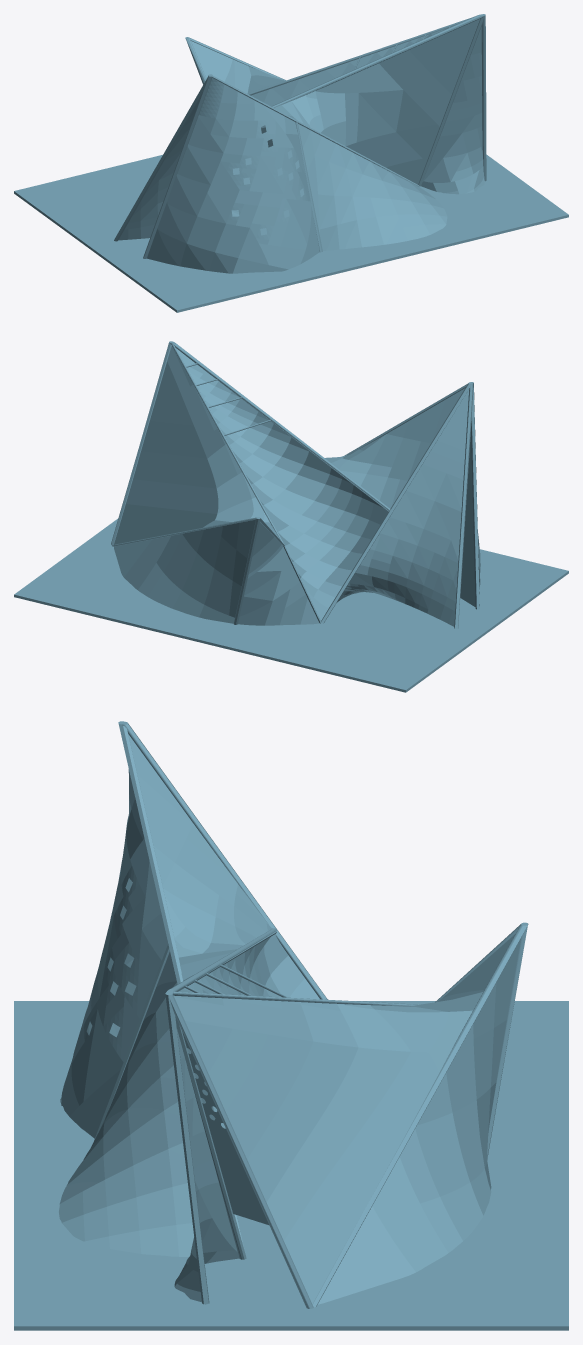
The model's file is pp_new_with_floor.glb.
3 views of the same model, one above another, from view 1: azimuth 30°, elevation 25°; view 2: azimuth 150°, elevation 25°; view 3: azimuth 270°, elevation 25° (orthographic). The views are drawn at different scales.
Visible parts, largest first — view 1: Philips Pavilion-3DPC m, GroundFloor; view 2: Philips Pavilion-3DPC m, GroundFloor; view 3: Philips Pavilion-3DPC m, GroundFloor.
Part boxes in pixels (x1,y1,x2,y2): Philips Pavilion-3DPC m: (114,14,486,273); GroundFloor: (14,150,568,312); Philips Pavilion-3DPC m: (111,341,480,628); GroundFloor: (14,518,568,692); Philips Pavilion-3DPC m: (59,721,528,1308); GroundFloor: (14,1001,568,1330).
Bounding box in the file's own units: 42.36 × 20.44 × 30.52.
